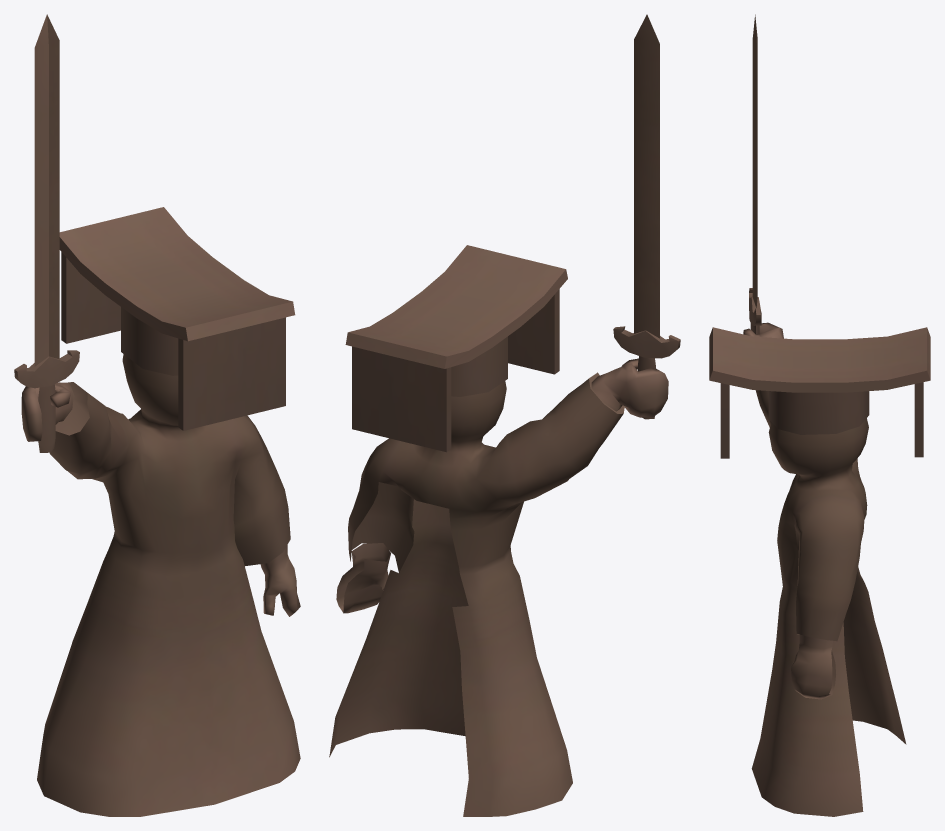
File: statue_wood.fbx
3 views of the same model, side by side, from view 1: azimuth 30°, elevation 25°; view 2: azimuth 150°, elevation 25°; view 3: azimuth 270°, elevation 25° (orthographic). The views are drawn at different scales.
Visible parts, largest first — view 1: statue_wood; view 2: statue_wood; view 3: statue_wood.
Boxes of the visible parts, bbox=[...] form: statue_wood: bbox=[14, 14, 300, 816]; statue_wood: bbox=[329, 14, 680, 816]; statue_wood: bbox=[709, 14, 930, 816].
Size of the model in its own units: 1.72 by 4.22 by 1.23.
1 material, 1 textured.
